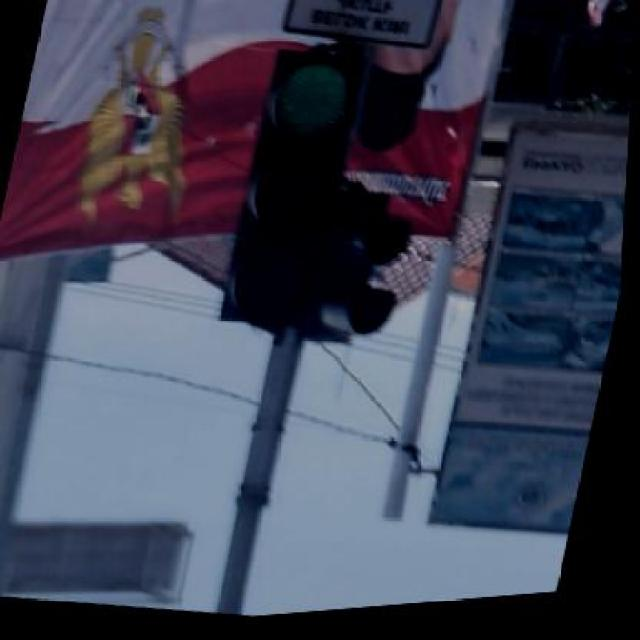green_light: (220, 46, 369, 342)
